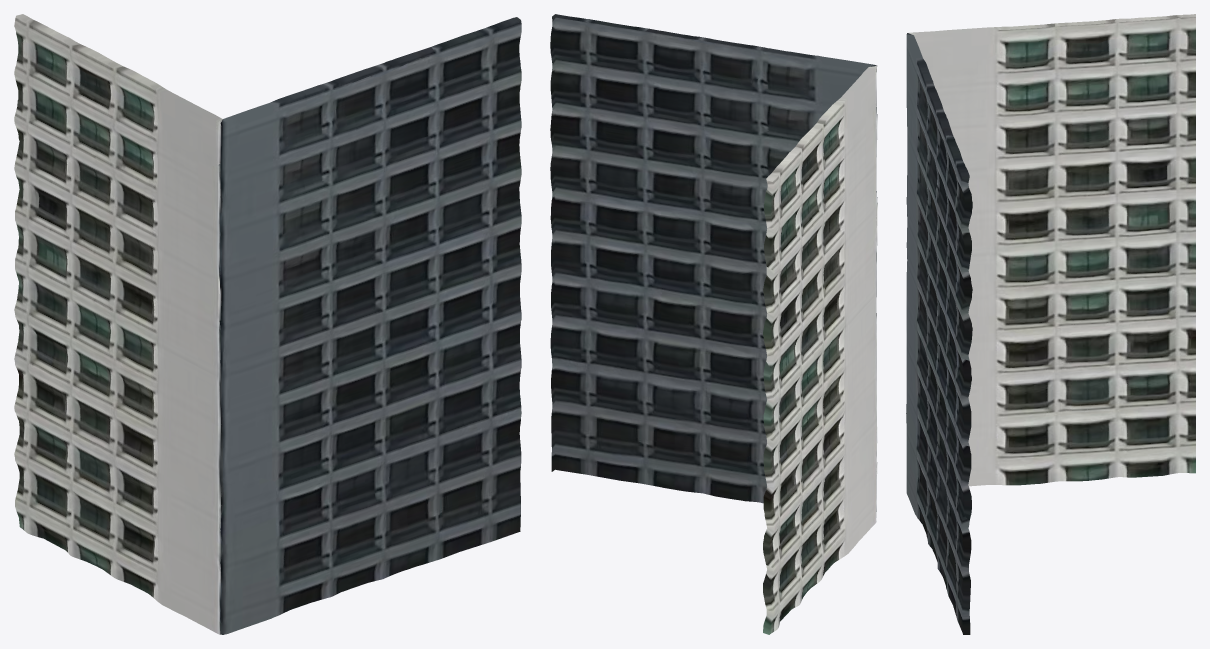
Rendered from z20-167751-405244-h1-yup-uvflip-v3-world.glb.
3 views of the same model, side by side, from view 1: azimuth 30°, elevation 25°; view 2: azimuth 150°, elevation 25°; view 3: azimuth 270°, elevation 25° (orthographic). The views are drawn at different scales.
Bounding box in the file's own units: 25.68 × 33.4 × 19.16.
1 material, 1 textured.
